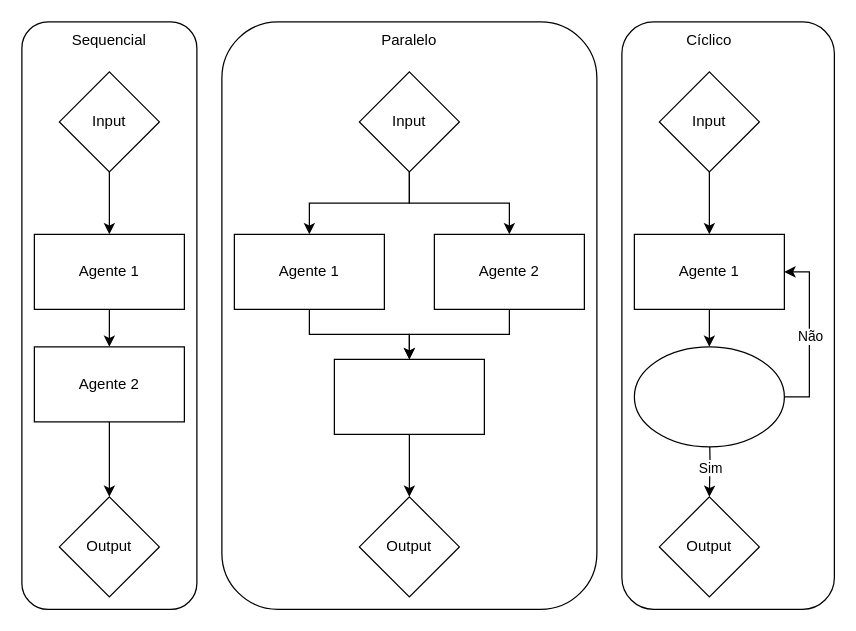
Image size: 856x631. Some labels were removed from this diagram. Here are the shapes that lost their labels. From the top down, the centre of each, then its label:
(408,396): Consolidador
(708,396): Objetivo Atingido?
